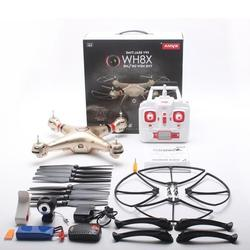drone: (30, 109, 130, 159), (91, 72, 164, 106)
